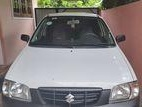car: (3, 14, 137, 107)
